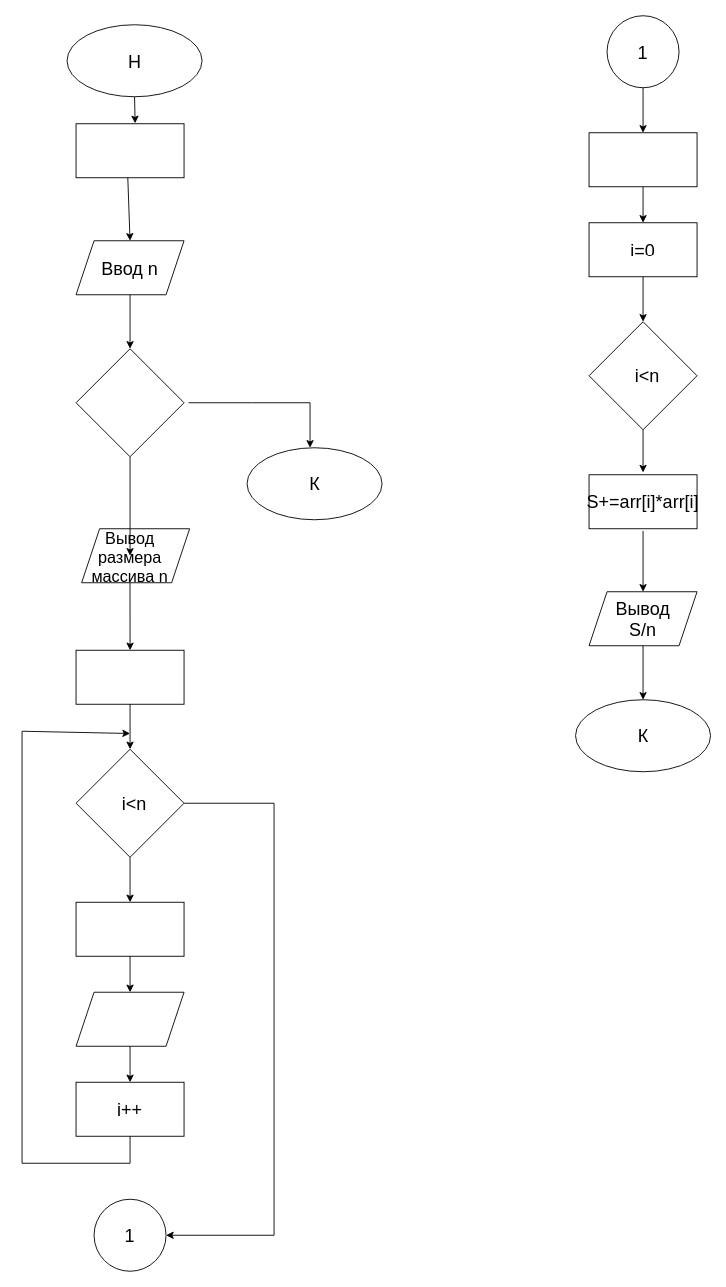
The diagram is 726 pixels wide and 1287 high, and some of its shapes have lost their labels. Each missing label, with the box of its shape:
Cin.fail() n<=0 n>100: (75, 348, 184, 457)
i = 0: (75, 649, 184, 704)
s=0: (588, 132, 697, 187)
Вывод элемента: (75, 991, 184, 1046)
Заполнение элементов: (75, 901, 184, 956)
Создание массива arr[] размера N: (75, 123, 184, 178)
